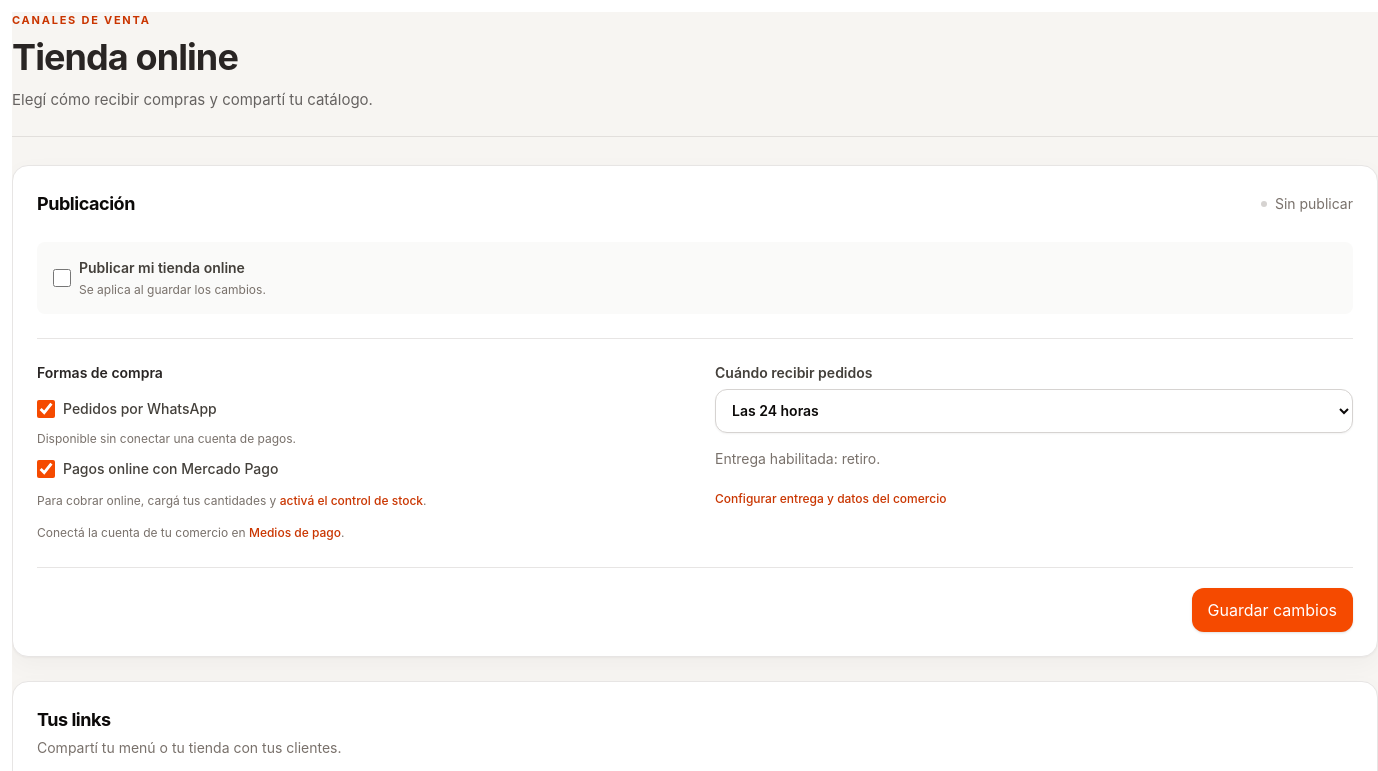
Test: StoreSettingsPage › allows removing a previously enabled online method when its connection is no longer ready
The width and height of the screenshot is (1378, 771).
Expected: the checkbox labelled "Pagos online con Mercado Pago" is checked, [37,460,55,478]
Expected: the checkbox labelled "Pagos online con Mercado Pago" is enabled, [37,460,55,478]
Click the checkbox labelled "Publicar mi tienda online Se aplica al guardar los cambios." at {"x": 62, "y": 278}, box [53,268,71,286]
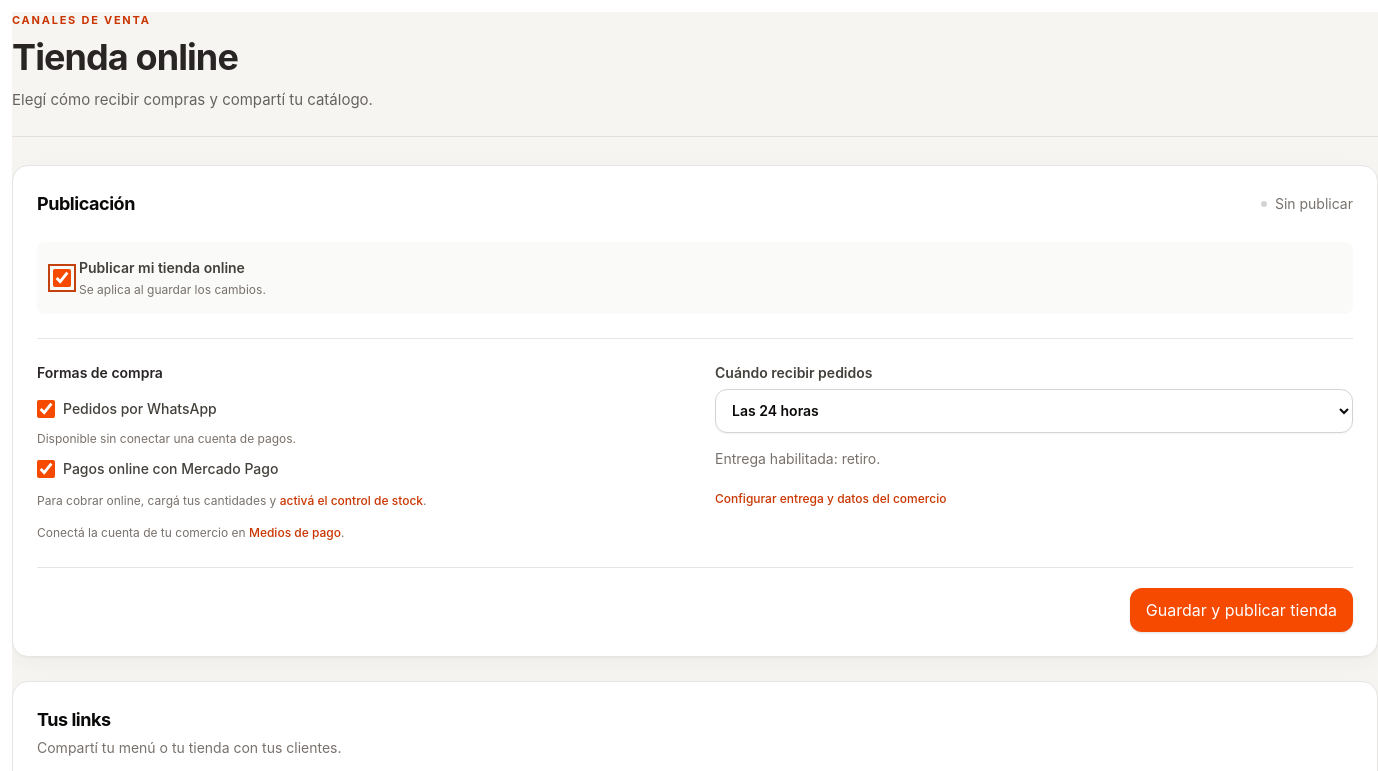
Click the button "Guardar y publicar tienda" at {"x": 1241, "y": 610}, box [1130,588,1353,632]
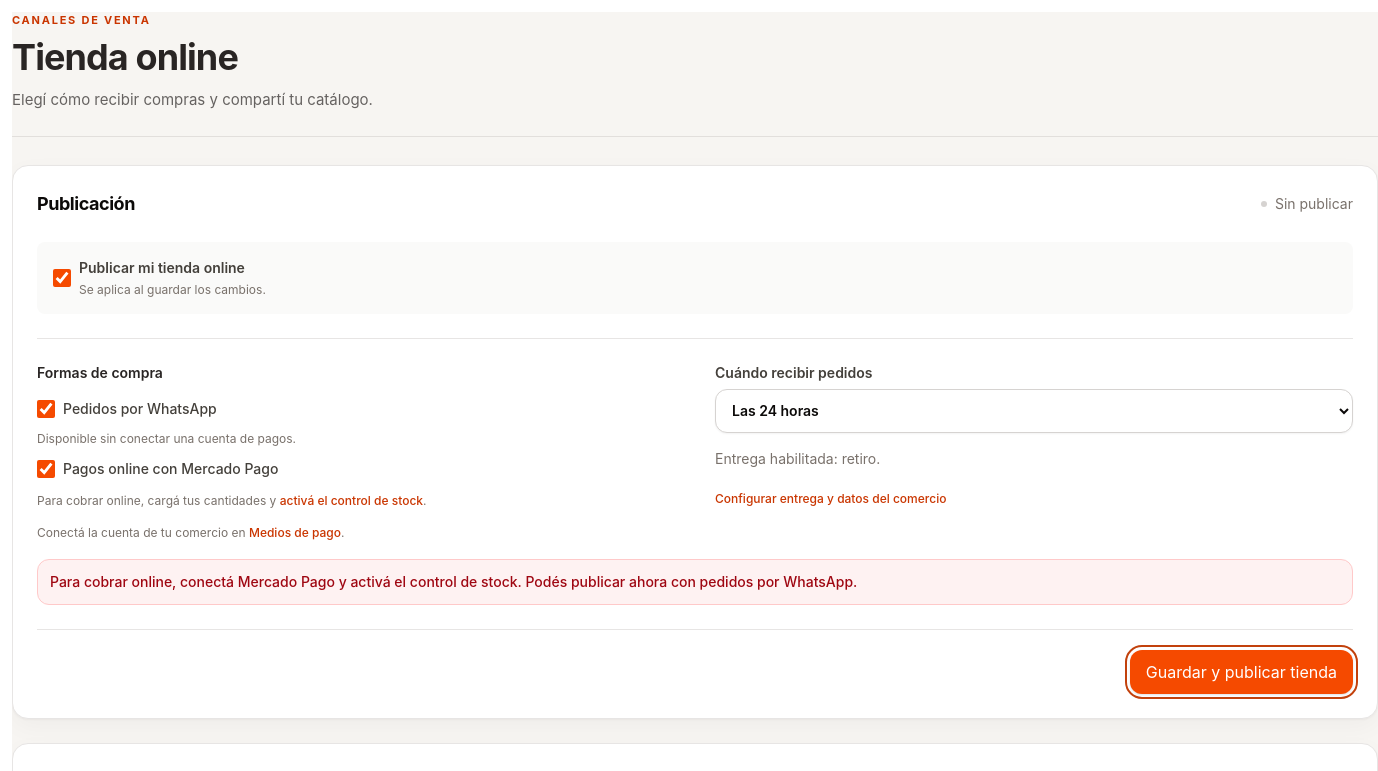
Now the message shows "Para cobrar online, conectá Mercado Pago", box [50,572,857,590]
Click the checkbox labelled "Pagos online con Mercado Pago" at {"x": 46, "y": 468}, box [37,460,55,478]
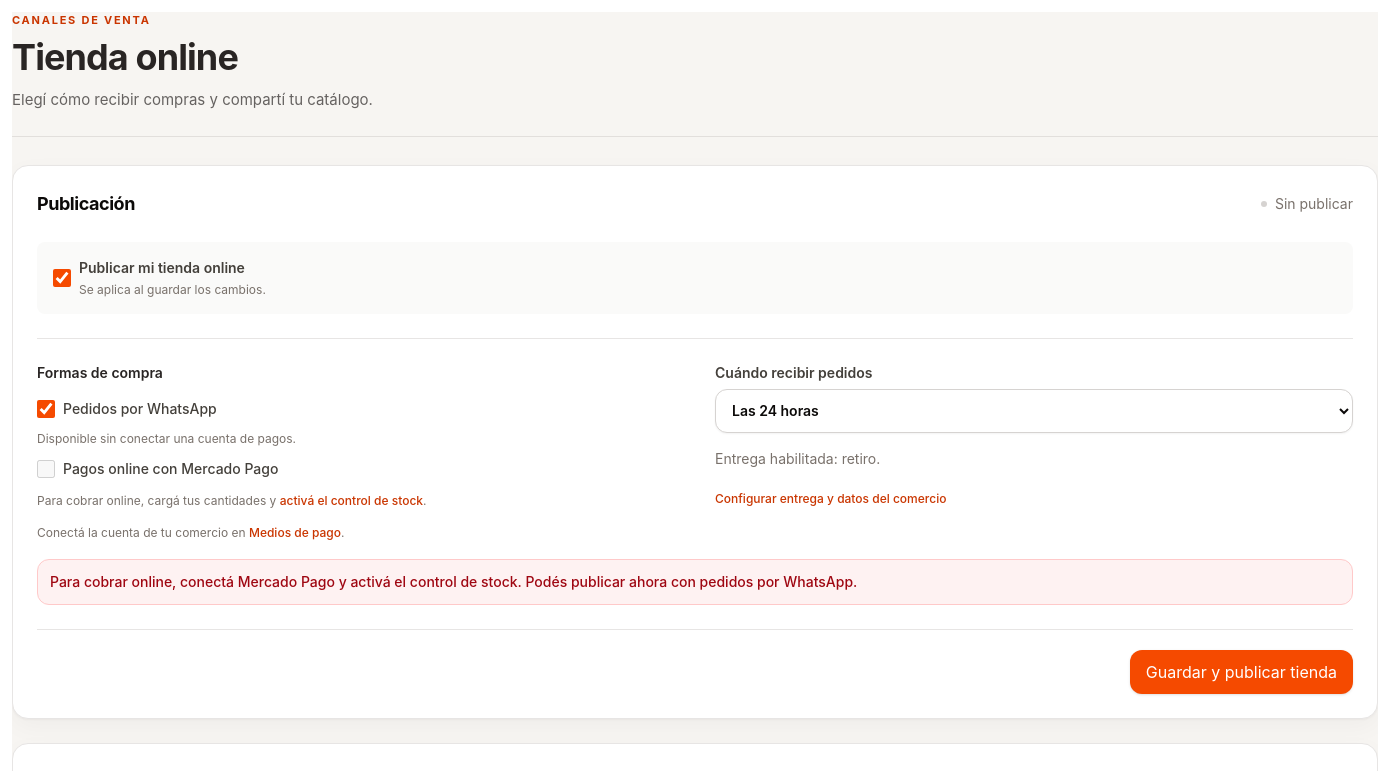
Click the button "Guardar y publicar tienda" at {"x": 1241, "y": 672}, box [1130,650,1353,694]
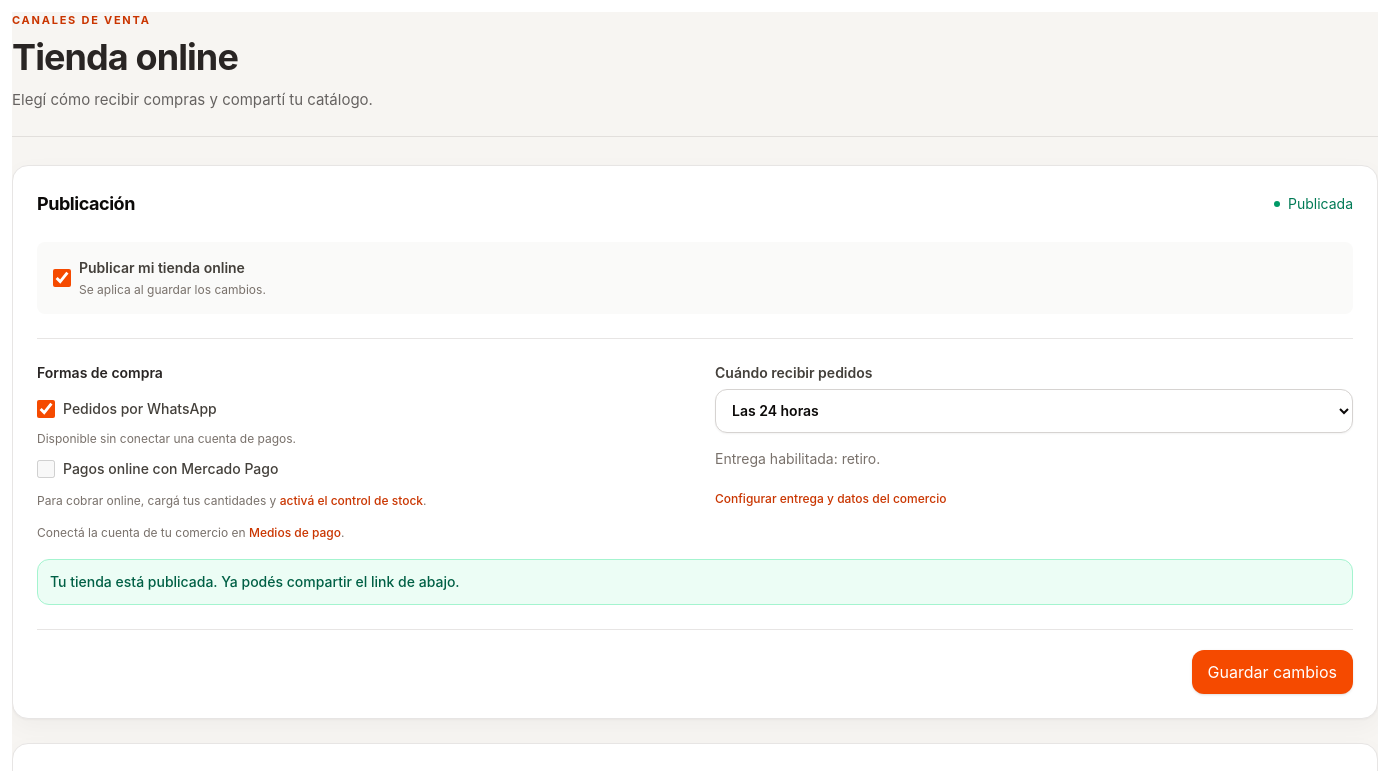
Now the message shows "Tu tienda está publicada", box [50,572,460,590]
